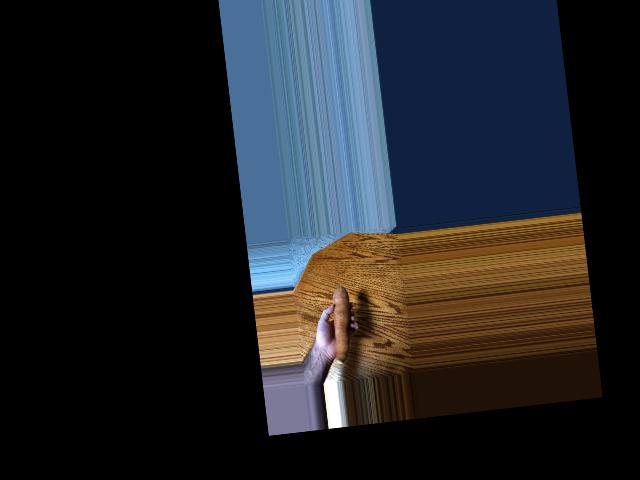sweet_potato: (329, 282, 361, 361)
